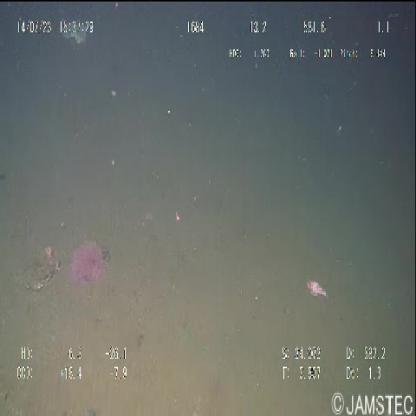Rác: (62, 22, 88, 48)
